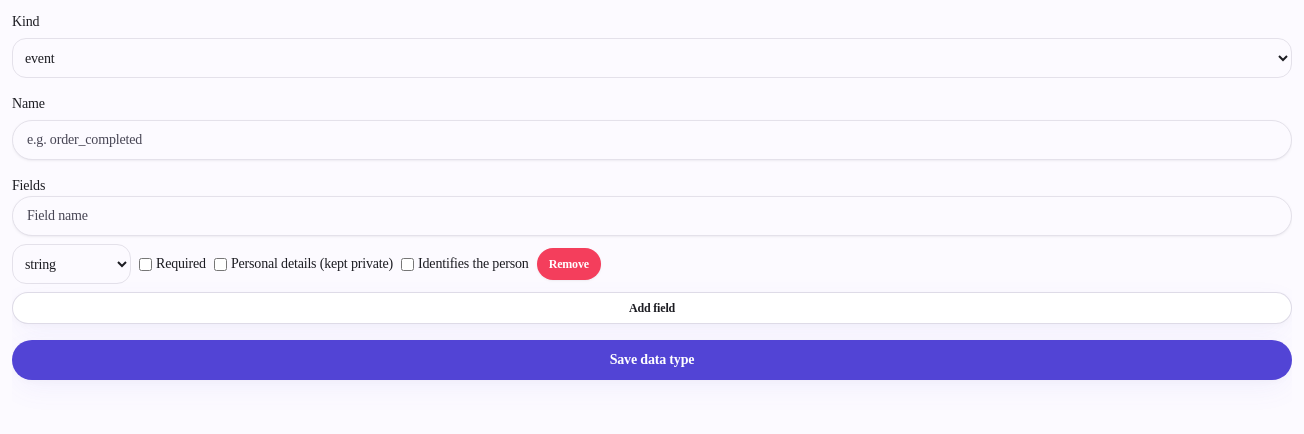
RegisterSchemaDefForm › shows a specific error for a duplicate schema, a generic one otherwise
Type "order_completed" into the field labelled "Name".
click(652, 140); type("order_completed")  # box [12,120,1292,160]
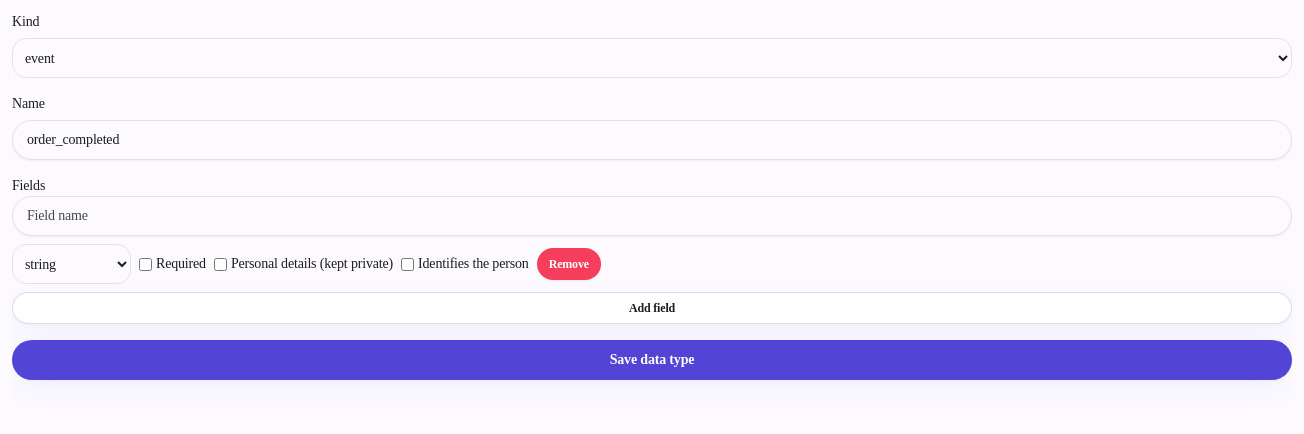
Type "order_id" into the field labelled "Field name".
click(652, 216); type("order_id")  # box [12,196,1292,236]
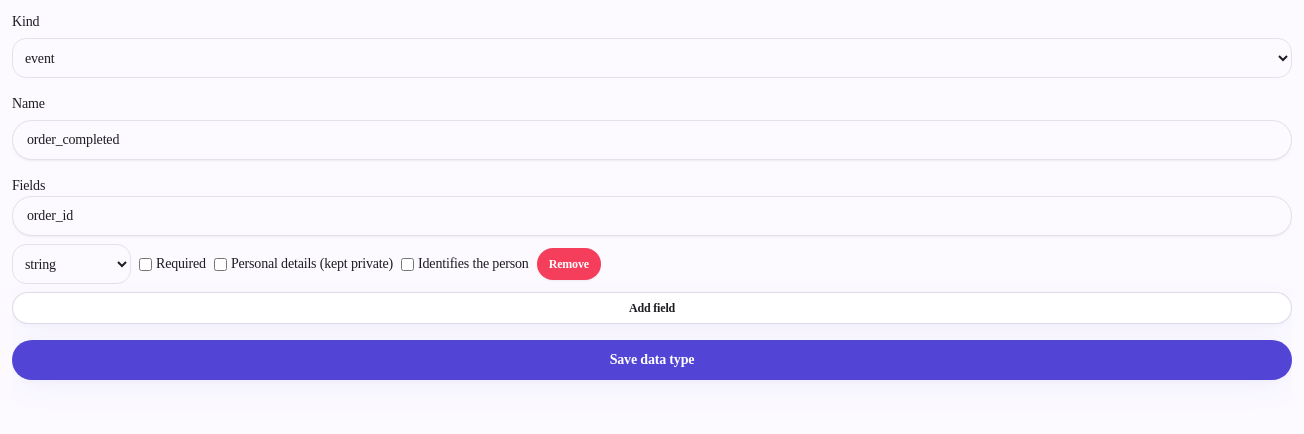
Click the button "Save data type".
click(652, 360)  # box [12,340,1292,380]
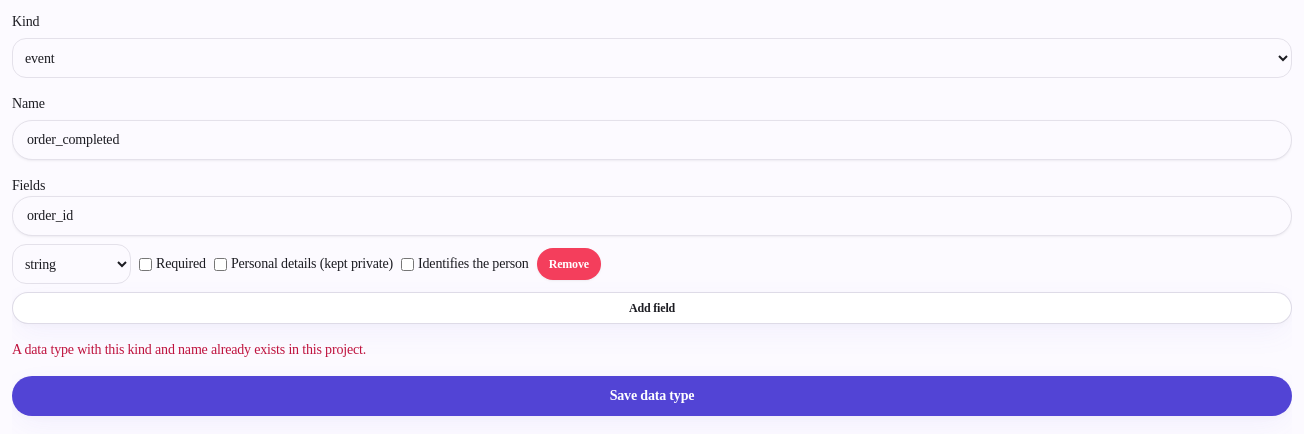
Result: the message reads "A data type with this kind and name already exists in this project." at [12,342,366,357]
